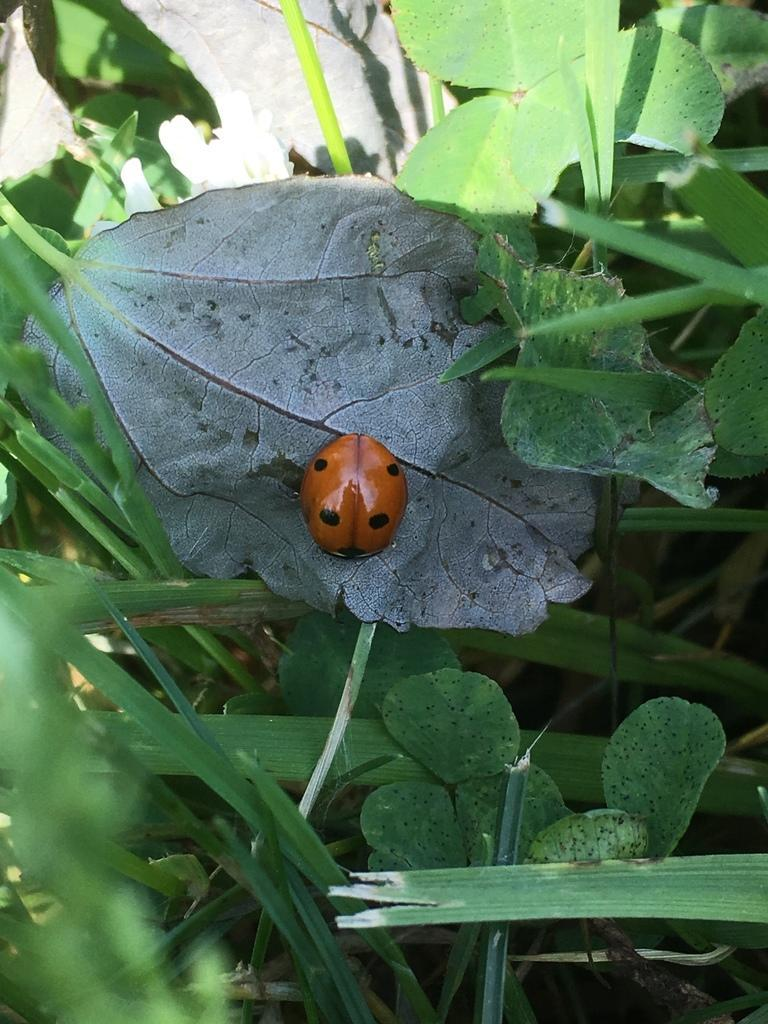ladybug: (296, 426, 416, 569)
